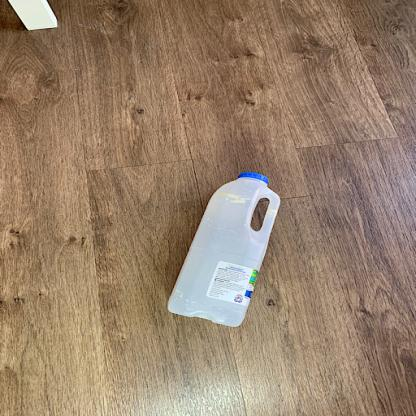trash: (165, 169, 283, 326)
